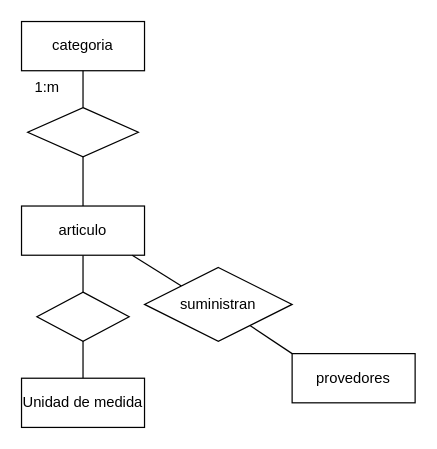
The diagram is 437 pixels wide and 449 high, and some of its shapes have lost their labels. The shapes that lost their labels are listed below. From the top down, each one's centre as x and y in pixels, then its label:
At (82,131): "pertenecen".
At (82,316): "es medido".
